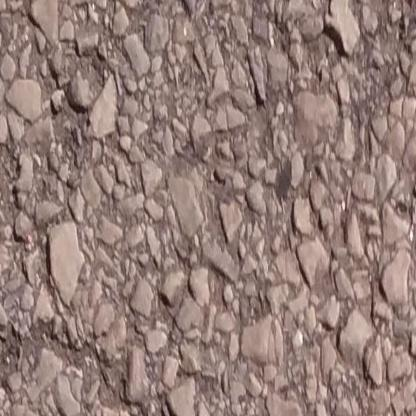Cracks: (0, 320, 152, 416)
